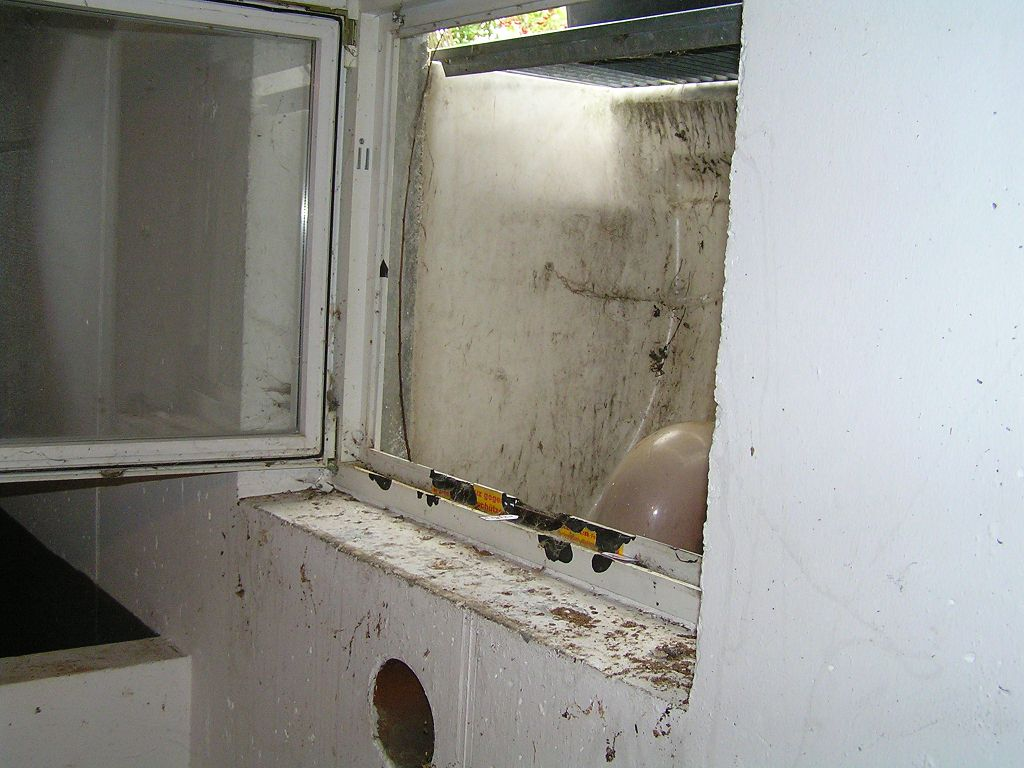windows: (356, 20, 719, 602)
